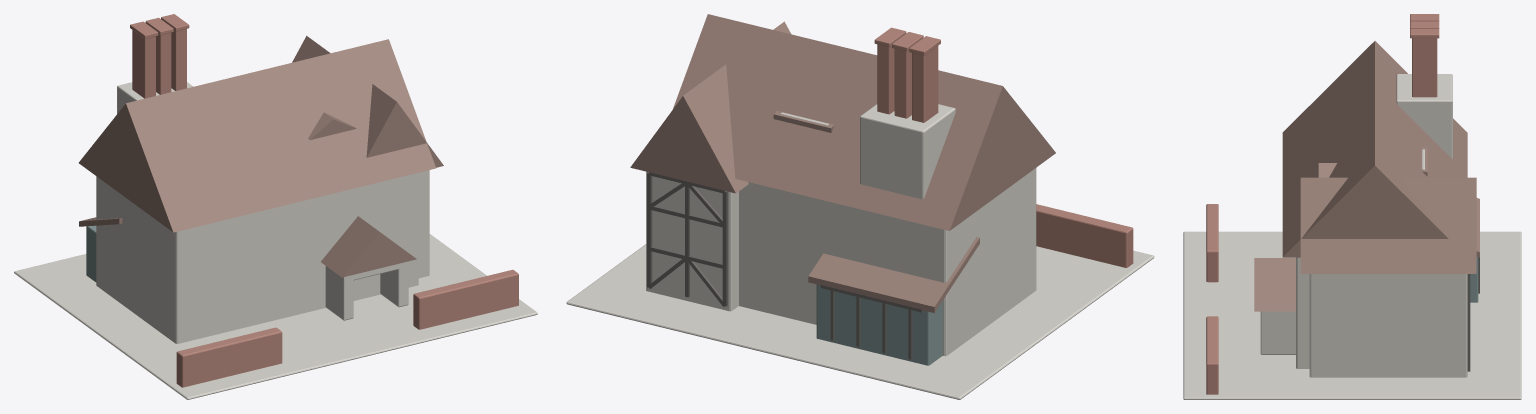
File: hudec-memorial-massing.glb
3 views of the same model, side by side, from view 1: azimuth 30°, elevation 25°; view 2: azimuth 150°, elevation 25°; view 3: azimuth 270°, elevation 25° (orthographic). The views are drawn at different scales.
Visible parts, largest first — view 1: hudec-memorial-massing; view 2: hudec-memorial-massing; view 3: hudec-memorial-massing.
Part boxes in pixels (<box>): hudec-memorial-massing: <box>14,14,537,399</box>; hudec-memorial-massing: <box>566,14,1154,399</box>; hudec-memorial-massing: <box>1183,14,1521,399</box>.
Size of the model in its own units: 12.6 by 8.98 by 10.8.
